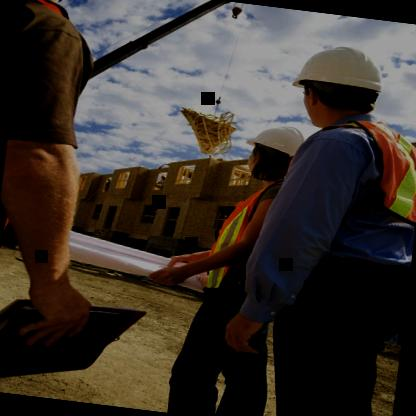helmet: (280, 32, 396, 132), (238, 111, 310, 202)
